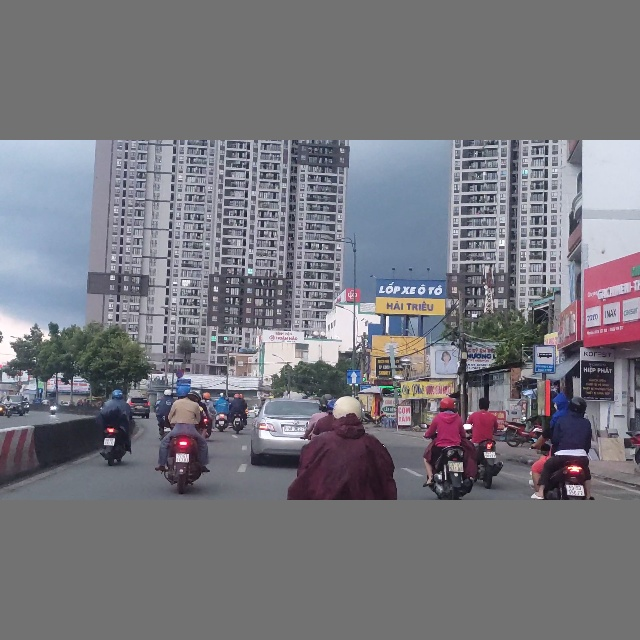I.407a: (346, 370, 361, 384)
I.434a: (534, 345, 556, 373)
